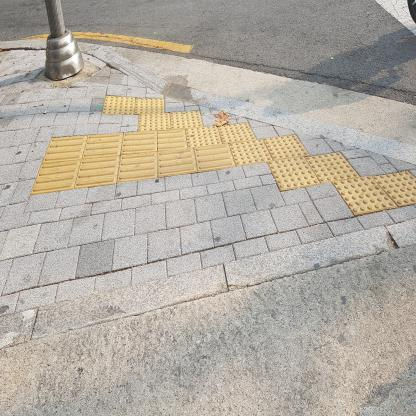podotacti: (27, 91, 416, 222)
